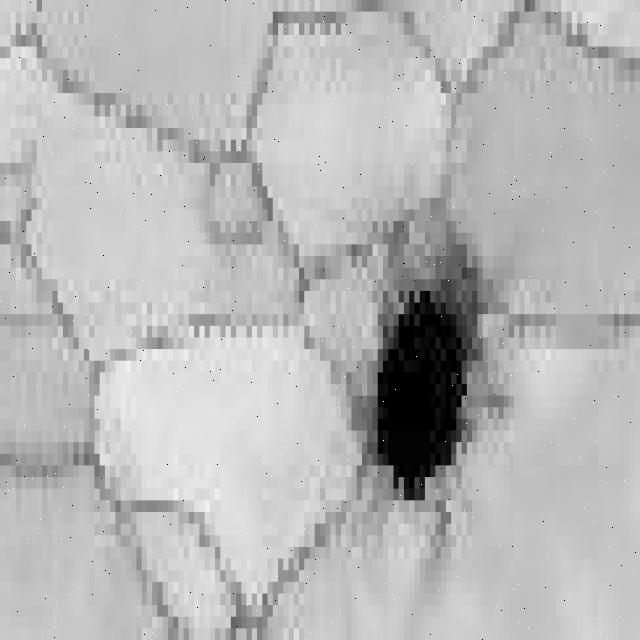good_void: (350, 205, 514, 553)
